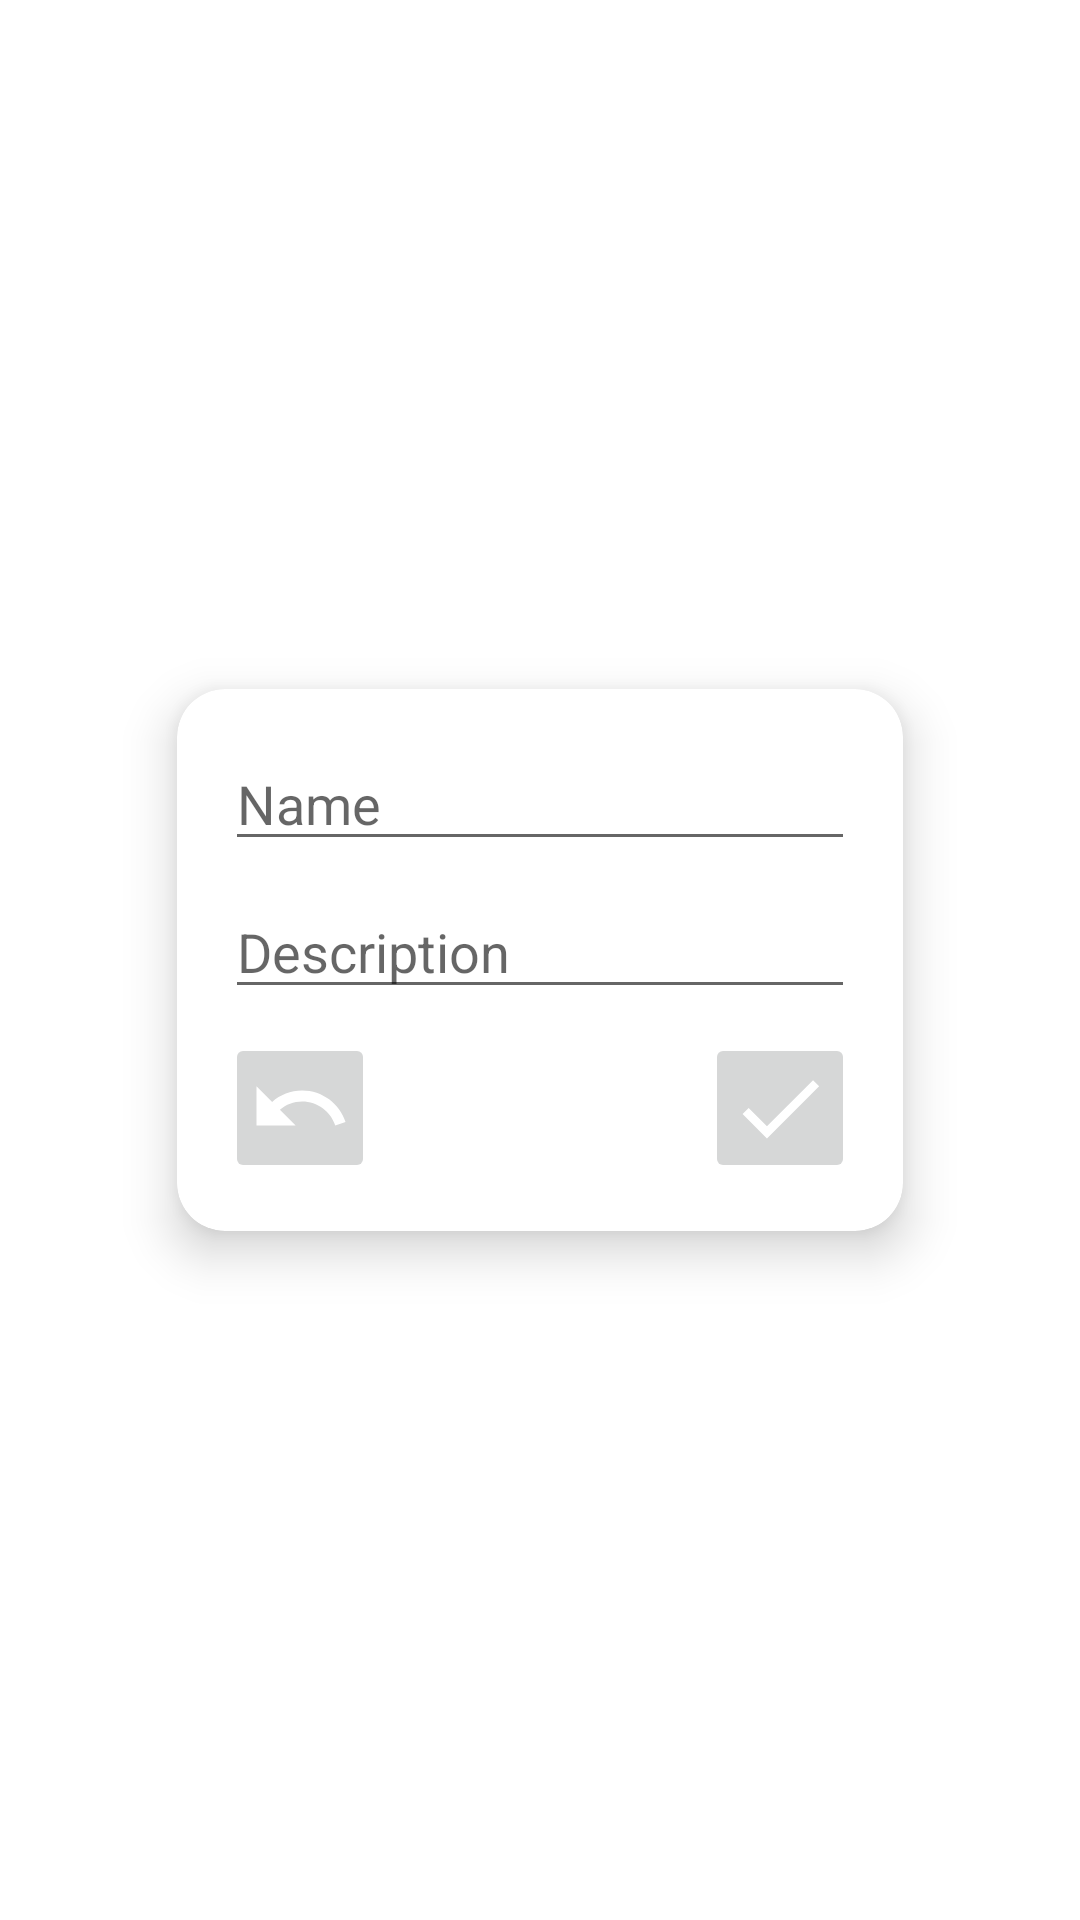

Where to tap for icons on this 1080*1920 app screen, as [x,y]:
done: [780,1108]
undo: [300,1108]
